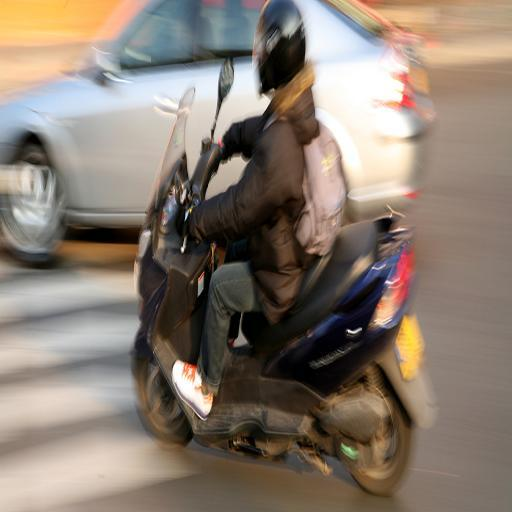helmet: (140, 4, 358, 420)
